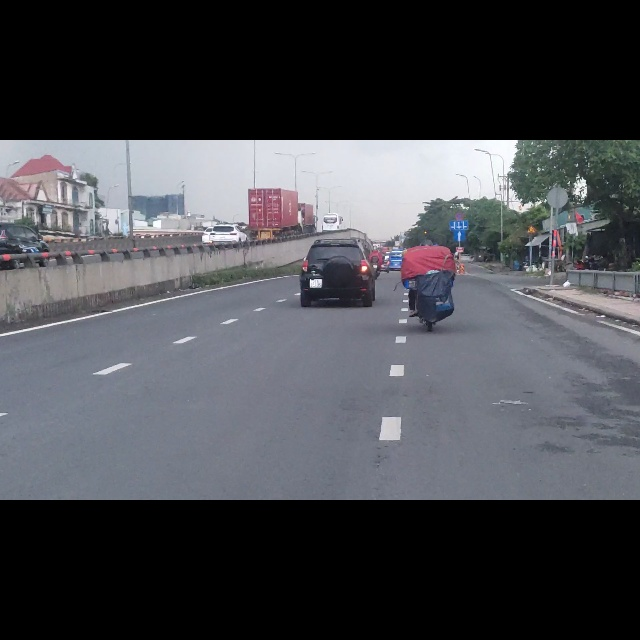bien_nguy_hiem: (454, 161, 466, 181), (455, 128, 464, 143)
